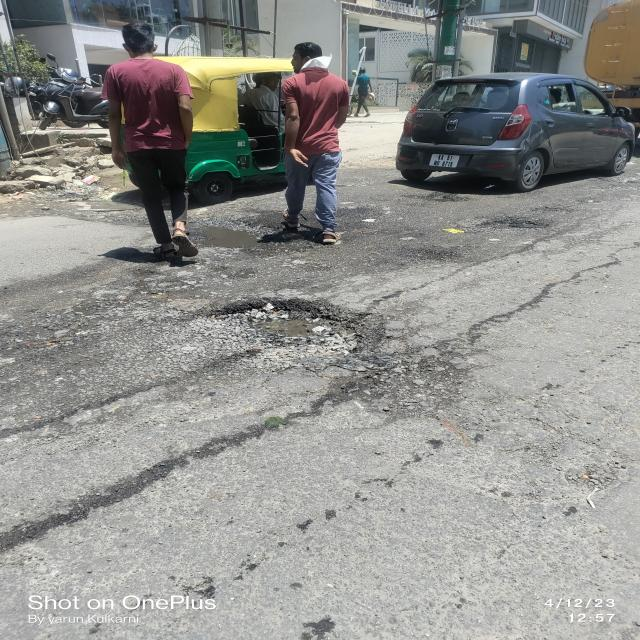potholes: (227, 290, 356, 352), (193, 219, 274, 255), (487, 205, 549, 234), (386, 252, 456, 257)
